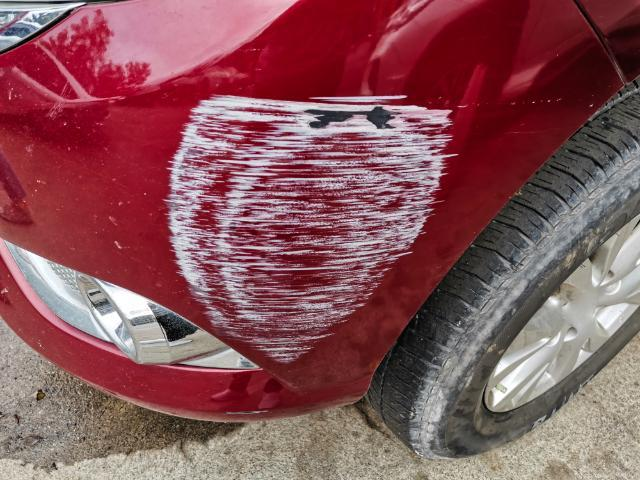scratch: (166, 91, 461, 365)
